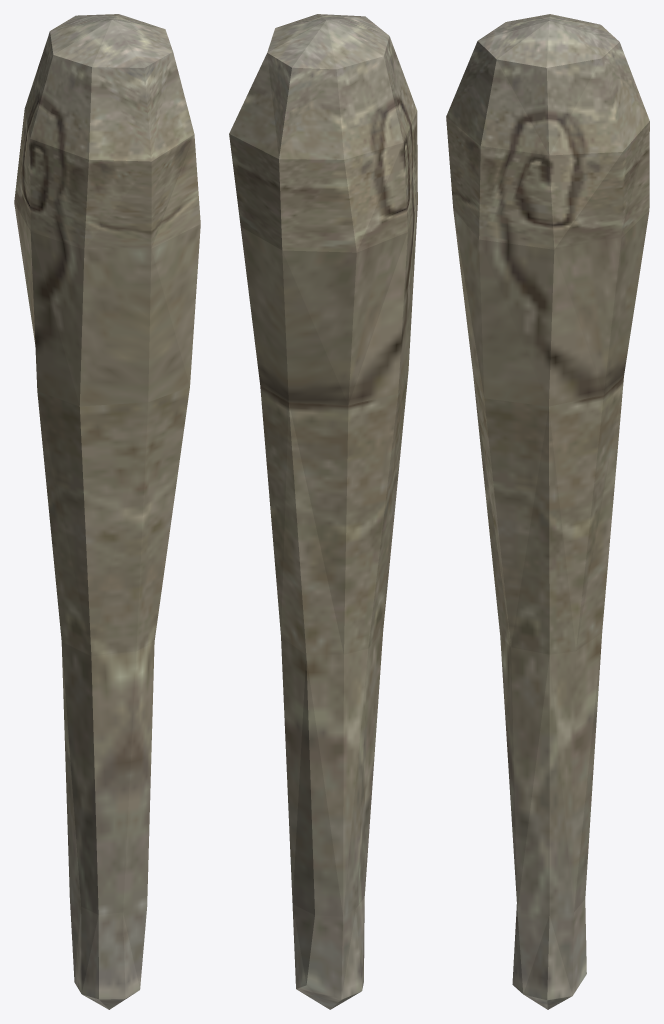
File: Bison_stoneClub.obj
3 renders of one model, left to right at view 1: azimuth 30°, elevation 25°; view 2: azimuth 150°, elevation 25°; view 3: azimuth 270°, elevation 25°, orthographic.
Visible parts, largest first — view 1: Bison_stoneClub_tri; view 2: Bison_stoneClub_tri; view 3: Bison_stoneClub_tri.
Boxes of the visible parts, <box> form: Bison_stoneClub_tri: <box>14,14,200,1009</box>; Bison_stoneClub_tri: <box>229,14,417,1009</box>; Bison_stoneClub_tri: <box>446,14,649,1009</box>.
Size of the model in its own units: 0.554 by 3.36 by 0.6254.
1 material, 1 textured.
